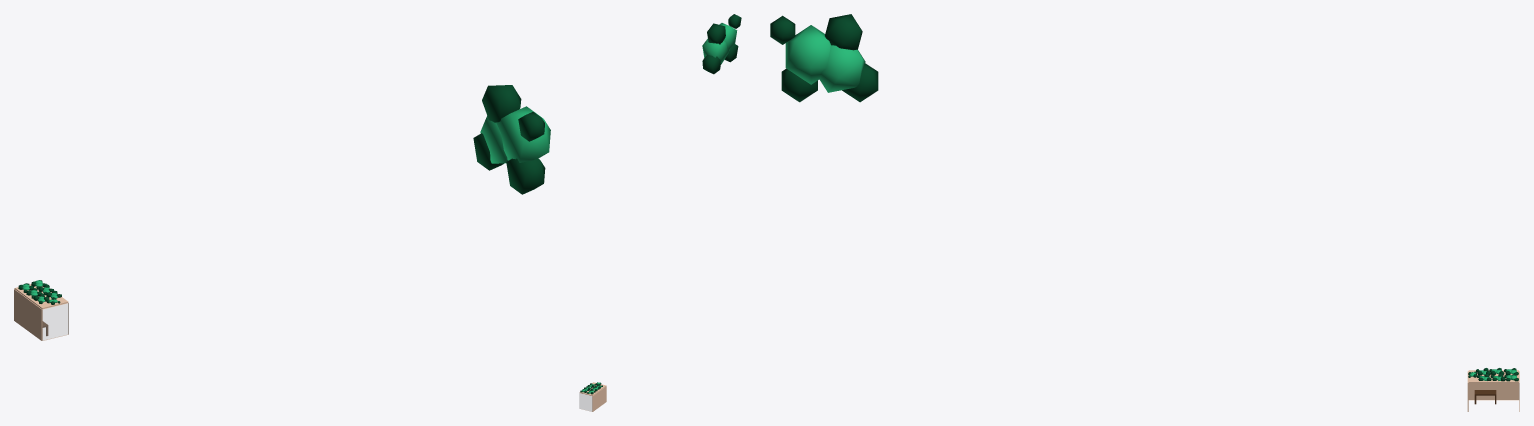
The model's file is bushok.fbx.
The picture shows the model from 3 angles, left to right: view 1: azimuth 30°, elevation 25°; view 2: azimuth 150°, elevation 25°; view 3: azimuth 270°, elevation 25°; orthographic projection. The views are drawn at different scales.
Parts seen in each view (by area): view 1: Icosphere.357, Cube, Icosphere.370, Icosphere.360, Cube.001, Icosphere.367, Icosphere.359, Icosphere.363; view 2: Icosphere.367, Cube, Icosphere.370, Icosphere.363, Icosphere.357, Cube.003; view 3: Icosphere.357, Icosphere.367, Cube, Icosphere.370, Icosphere.360, Icosphere.363.
Part boxes in pixels (x1,y1,x2,y2): Icosphere.357: (496, 106, 550, 162); Cube: (14, 284, 68, 340); Icosphere.370: (482, 85, 521, 122); Icosphere.360: (506, 158, 545, 194); Cube.001: (43, 303, 68, 340); Icosphere.367: (480, 116, 508, 163); Icosphere.359: (518, 111, 544, 141); Icosphere.363: (473, 133, 504, 170); Icosphere.367: (702, 38, 728, 64); Cube: (579, 382, 606, 411); Icosphere.370: (707, 23, 725, 44); Icosphere.363: (702, 55, 720, 74); Icosphere.357: (719, 23, 737, 50); Cube.003: (579, 393, 591, 411); Icosphere.357: (785, 25, 830, 84); Icosphere.367: (819, 45, 865, 92); Cube: (1467, 370, 1519, 411); Icosphere.370: (825, 14, 862, 50); Icosphere.360: (781, 68, 817, 102); Icosphere.363: (842, 63, 878, 102).
Size of the model in its own units: 1775 by 5315 by 8271.
